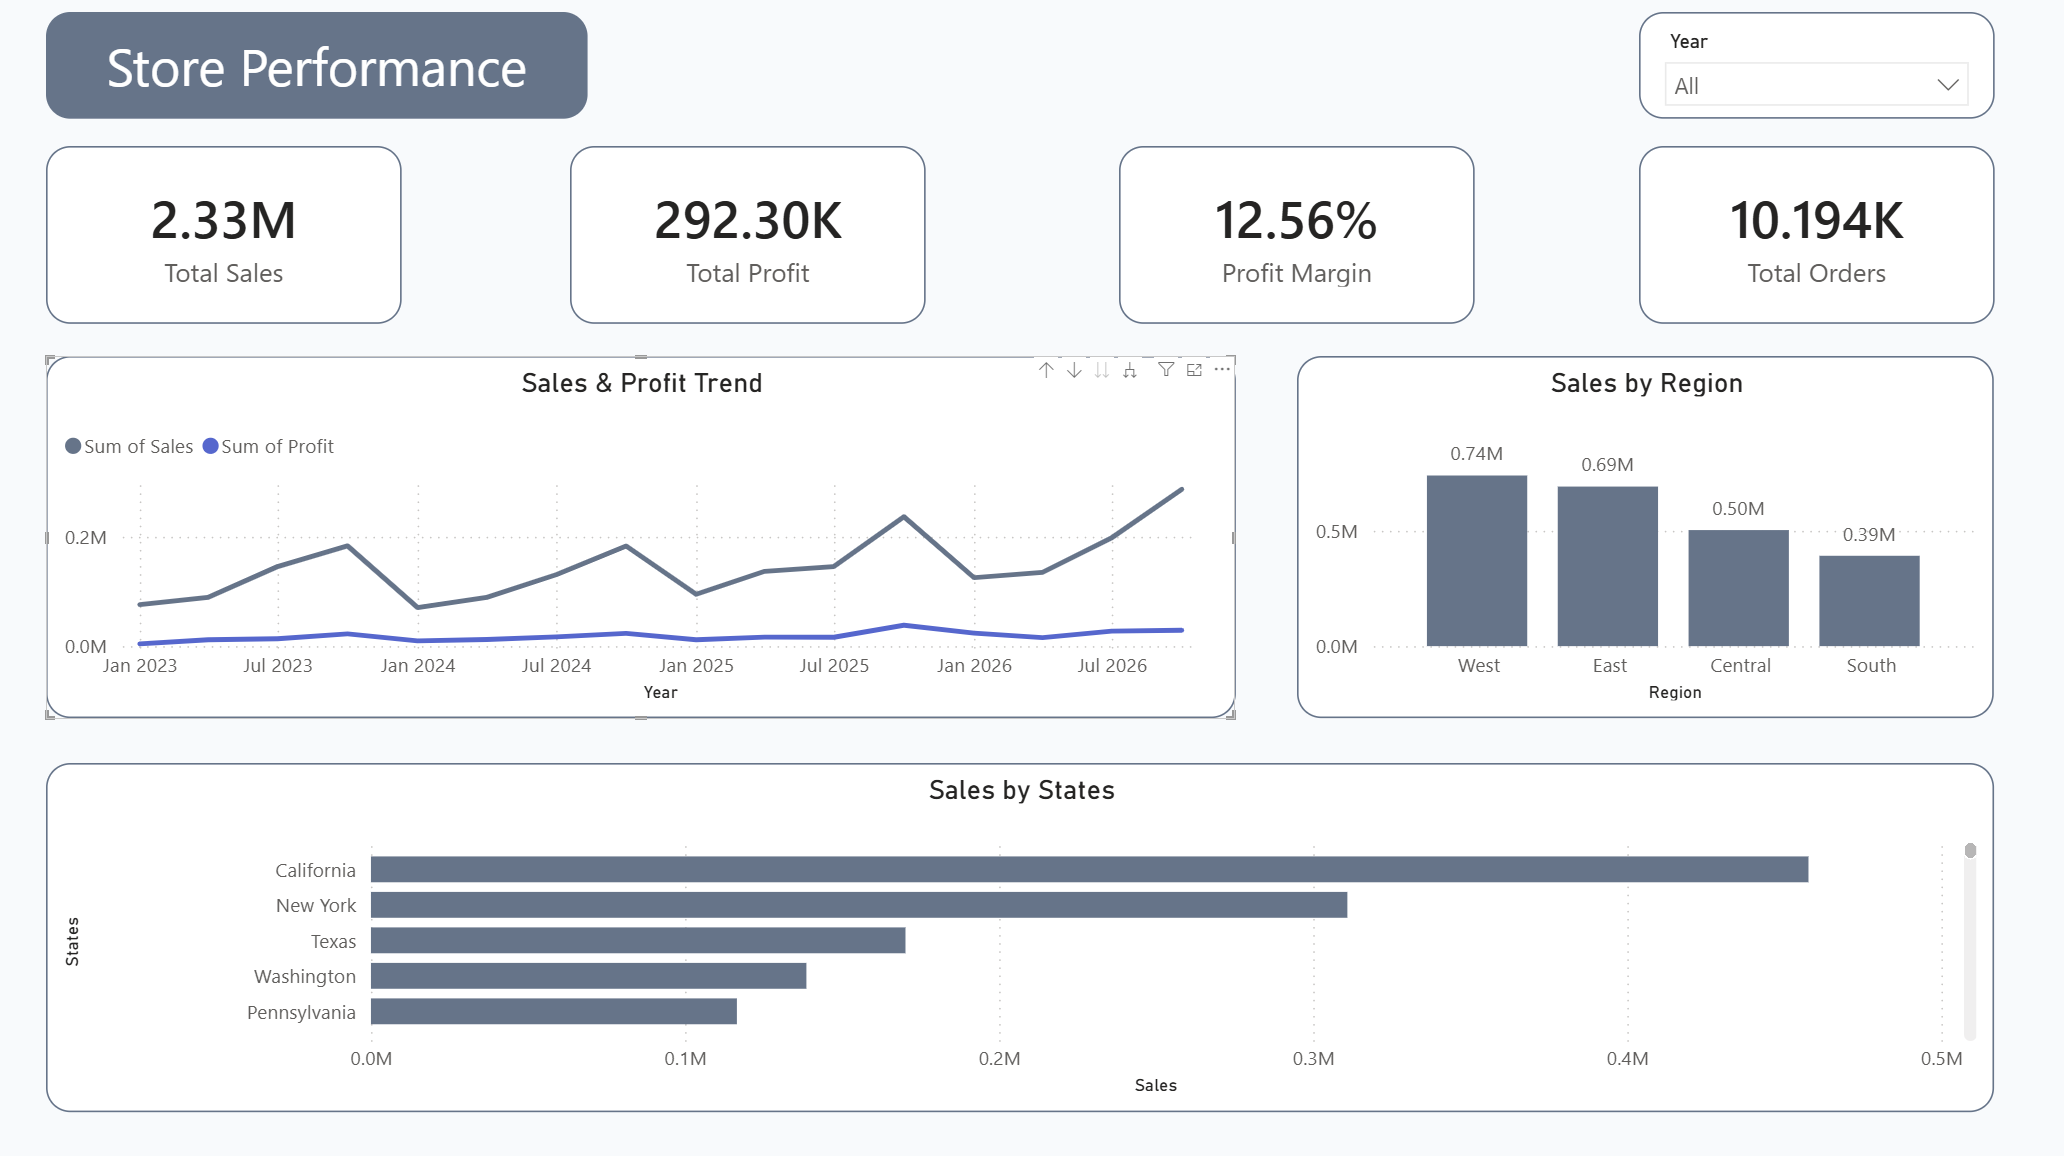

What the dashboard file says about the page in this screenshot:
{"tool":"powerbi","page":{"name":"Store Performance","canvas":[1280,720],"ordinal":0},"visuals":[{"type":"cardVisual","fields":{"Data":["Sum(03_Orders_Cleaned.Sales)"]},"box":[30.1,93.6,220,110],"z":0},{"type":"cardVisual","fields":{"Data":["Sum(03_Orders_Cleaned.Profit)"]},"box":[354.7,93.6,220,110],"z":1000},{"type":"cardVisual","fields":{"Data":["CountNonNull(03_Orders_Cleaned.Row ID)"]},"box":[1015.6,93.6,220,110],"z":2000},{"type":"barChart","title":"Sales by States","fields":{"Y":["Sum(03_Orders_Cleaned.Sales)"],"Category":["03_Orders_Cleaned.State/Province"]},"box":[30.1,475.1,1205.4,216],"z":3000},{"type":"cardVisual","fields":{"Data":["03_Orders_Cleaned.Profit Margin"]},"box":[694.3,93.6,220,110],"z":4000},{"type":"columnChart","title":"Sales by Region","fields":{"Category":["03_Orders_Cleaned.Region"],"Y":["Sum(03_Orders_Cleaned.Sales)"]},"box":[804.3,223.1,431.2,224.5],"z":5000},{"type":"lineChart","title":"Sales & Profit Trend","fields":{"Category":["03_Orders_Cleaned.Order Date.Variation.Date Hierarchy.Year","03_Orders_Cleaned.Order Date.Variation.Date Hierarchy.Quarter","03_Orders_Cleaned.Order Date.Variation.Date Hierarchy.Month","03_Orders_Cleaned.Order Date.Variation.Date Hierarchy.Day"],"Y":["Sum(03_Orders_Cleaned.Sales)","Sum(03_Orders_Cleaned.Profit)"]},"box":[30.1,223.1,735.5,224.5],"z":6000},{"type":"textbox","box":[30.1,10.5,335.1,66.1],"z":7000},{"type":"slicer","fields":{"Values":["03_Orders_Cleaned.Order Date.Variation.Date Hierarchy.Year","03_Orders_Cleaned.Order Date.Variation.Date Hierarchy.Month"]},"box":[1015.6,10.5,219.9,66.1],"z":8000}]}

Visuals, with their boxes in screenshot pixels (x1, y1, x2, y2), scaled from the page's 1280x720 canvas onto the 2064x1156 screenshot:
cardVisual - Sum(03_Orders_Cleaned.Sales): x1=49, y1=150, x2=403, y2=327
cardVisual - Sum(03_Orders_Cleaned.Profit): x1=572, y1=150, x2=927, y2=327
cardVisual - CountNonNull(03_Orders_Cleaned.Row ID): x1=1638, y1=150, x2=1992, y2=327
"Sales by States" barChart: x1=49, y1=763, x2=1992, y2=1110
cardVisual - 03_Orders_Cleaned.Profit Margin: x1=1120, y1=150, x2=1474, y2=327
"Sales by Region" columnChart: x1=1297, y1=358, x2=1992, y2=719
"Sales & Profit Trend" lineChart: x1=49, y1=358, x2=1235, y2=719
textbox: x1=49, y1=17, x2=589, y2=123
slicer - 03_Orders_Cleaned.Order Date.Variation.Date Hierarchy.Year x 03_Orders_Cleaned.Order Date.Variation.Date Hierarchy.Month: x1=1638, y1=17, x2=1992, y2=123
